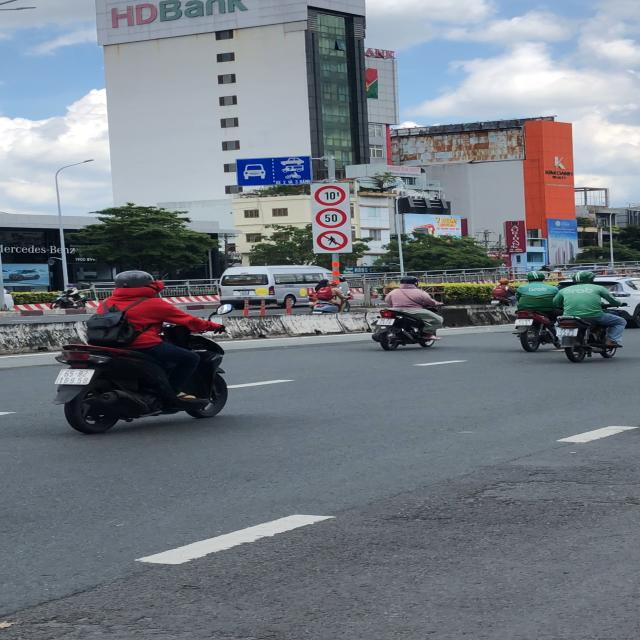Bien bao toc do toi da cho phep: (314, 208, 349, 228)
